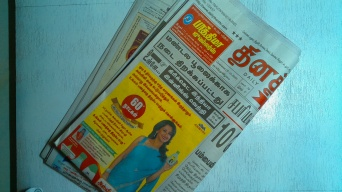p: (40, 1, 303, 189)
